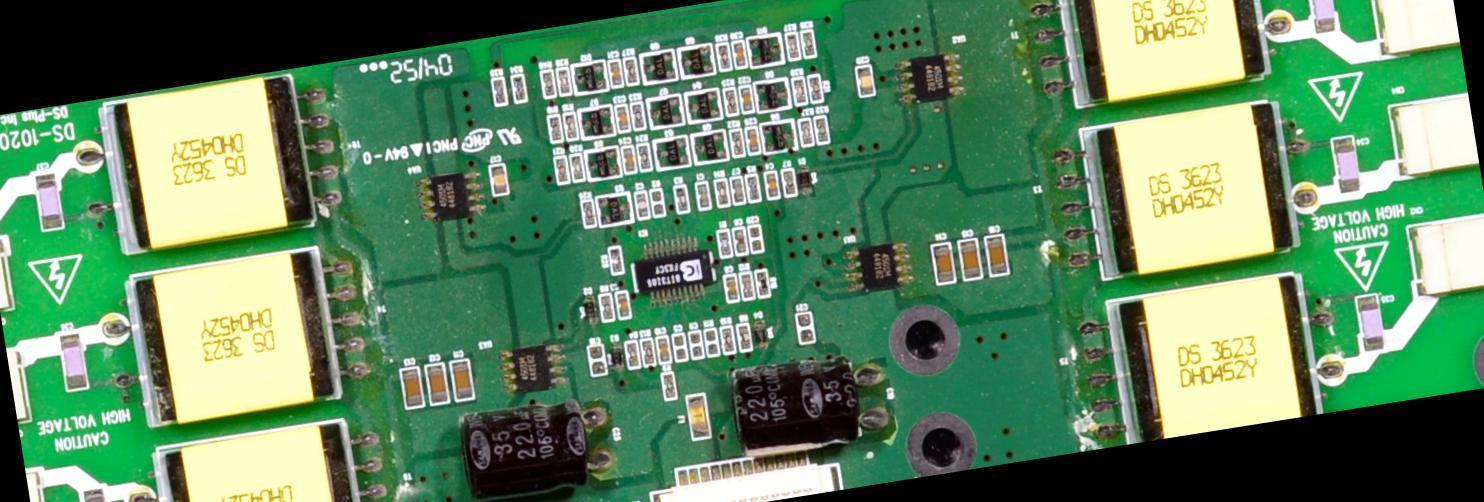Capacitor: (24, 159, 78, 246), (52, 323, 102, 401), (1321, 128, 1371, 202), (1349, 286, 1399, 354), (419, 351, 456, 411), (443, 352, 484, 405), (980, 227, 1018, 284), (924, 234, 962, 290), (1303, 0, 1354, 41), (393, 360, 429, 417), (955, 229, 988, 282), (482, 158, 517, 205), (790, 305, 824, 352), (848, 58, 879, 101), (631, 184, 659, 223), (617, 139, 643, 180), (611, 95, 634, 136), (77, 483, 128, 501), (746, 222, 771, 258), (670, 327, 693, 366), (730, 219, 753, 256), (723, 271, 745, 308), (654, 331, 677, 366), (743, 123, 767, 156), (729, 175, 752, 209), (685, 326, 706, 363), (764, 166, 786, 201), (730, 37, 753, 70), (606, 55, 625, 90), (739, 83, 759, 116)
Connector: (632, 424, 876, 501), (1387, 202, 1483, 308), (1385, 86, 1481, 190), (1364, 0, 1462, 69), (6, 341, 57, 441), (0, 218, 40, 329)
IC: (625, 233, 723, 308), (407, 160, 492, 237), (891, 44, 975, 116), (835, 235, 923, 301), (491, 331, 571, 400)
Resistor: (598, 239, 630, 280), (716, 317, 742, 358), (669, 176, 695, 216), (638, 330, 663, 370), (596, 286, 622, 324), (506, 68, 531, 107), (714, 35, 738, 75), (575, 192, 600, 230), (694, 177, 718, 216), (812, 111, 837, 148), (635, 136, 659, 174), (623, 334, 647, 372), (552, 61, 576, 99), (799, 23, 824, 59), (649, 181, 672, 220), (536, 65, 559, 104), (621, 53, 644, 92), (714, 224, 738, 261), (563, 108, 585, 148), (734, 320, 759, 355), (612, 284, 635, 321), (629, 96, 652, 132), (713, 174, 736, 210), (489, 72, 512, 108), (795, 114, 818, 149), (806, 71, 829, 105), (752, 265, 773, 302), (727, 126, 749, 161), (704, 326, 726, 361), (553, 152, 574, 188), (738, 266, 759, 302), (721, 82, 743, 116), (744, 170, 766, 204), (571, 150, 590, 187), (545, 111, 566, 144), (788, 74, 808, 107), (783, 28, 802, 61)
Transistor: (641, 86, 688, 134), (636, 43, 682, 91), (649, 130, 692, 171), (679, 39, 719, 81), (685, 85, 723, 124), (689, 127, 730, 163)
